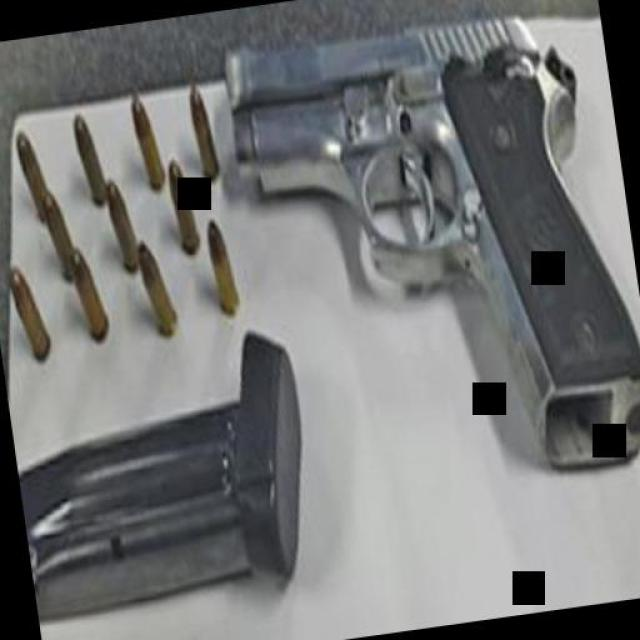gun: (207, 0, 640, 517)
